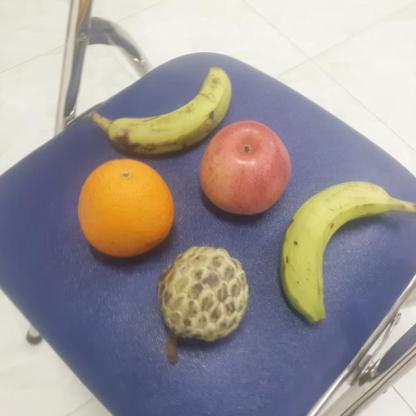annona: (154, 244, 252, 342)
apple: (197, 119, 293, 214)
banana: (278, 176, 392, 324), (107, 61, 234, 156)
orange: (74, 154, 176, 259)
